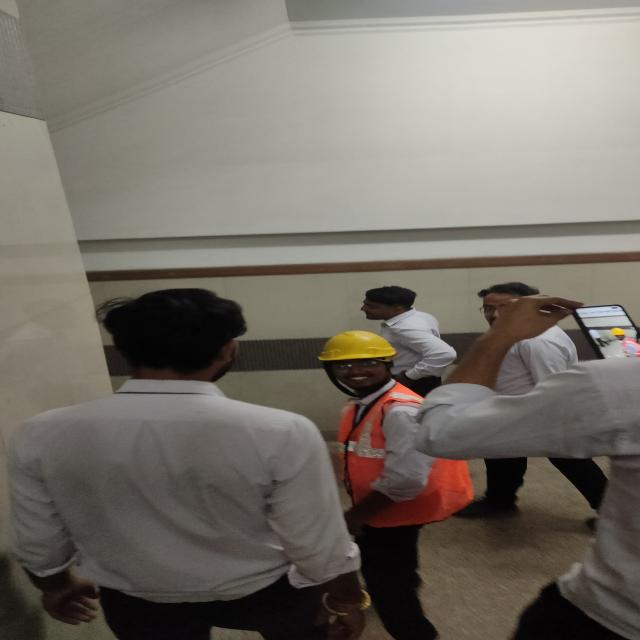safe: (307, 335, 451, 634)
unsafe: (8, 289, 374, 640), (351, 282, 447, 397)
